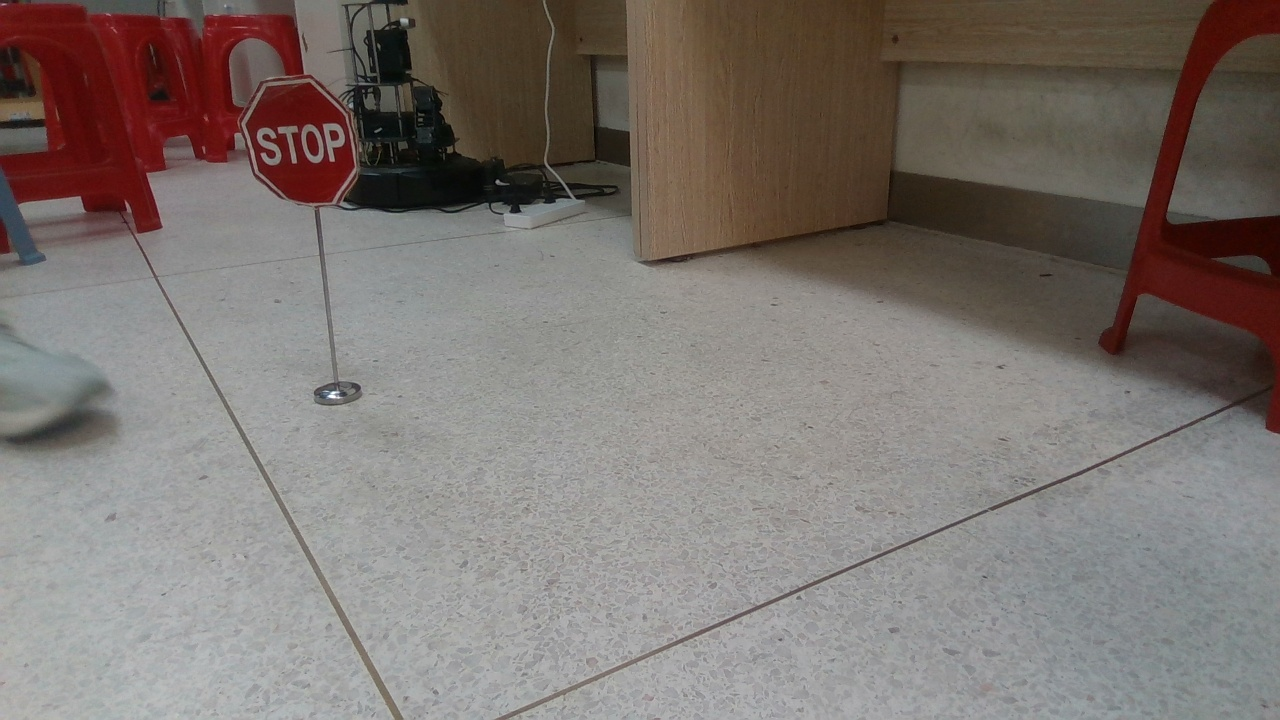Stop sign: (234, 74, 366, 216)
